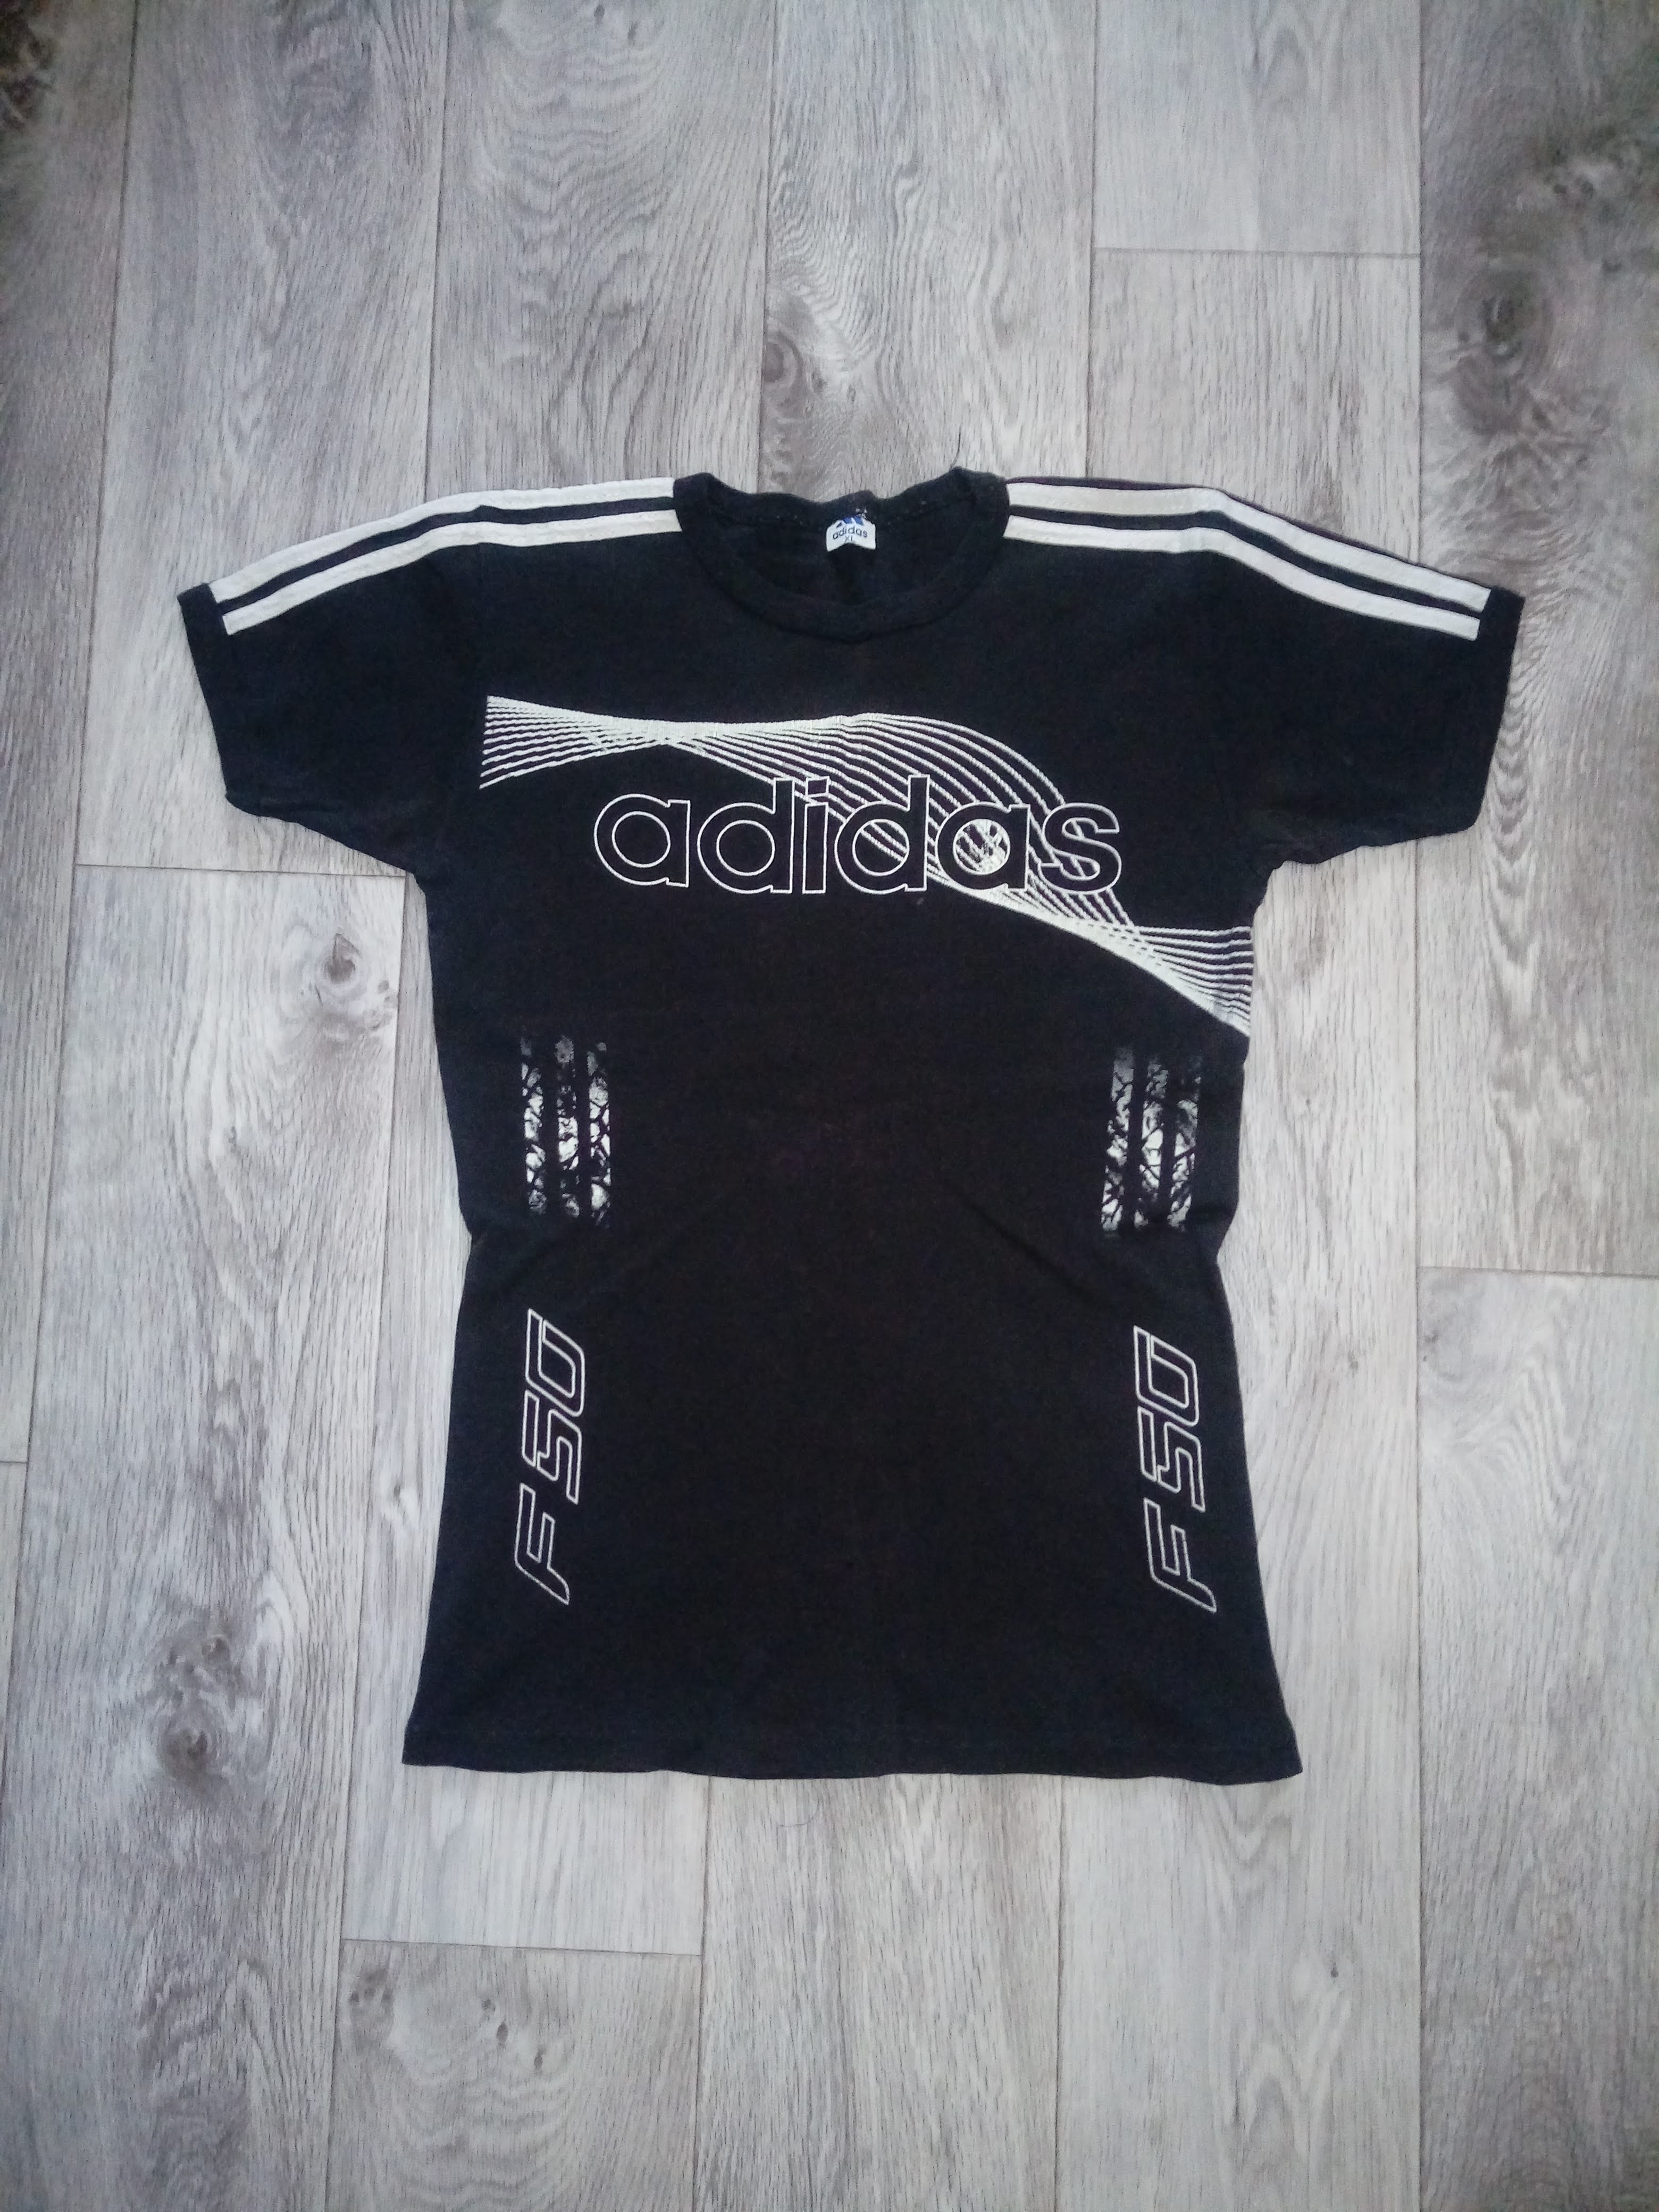clothes: (166, 458, 1565, 1806)
